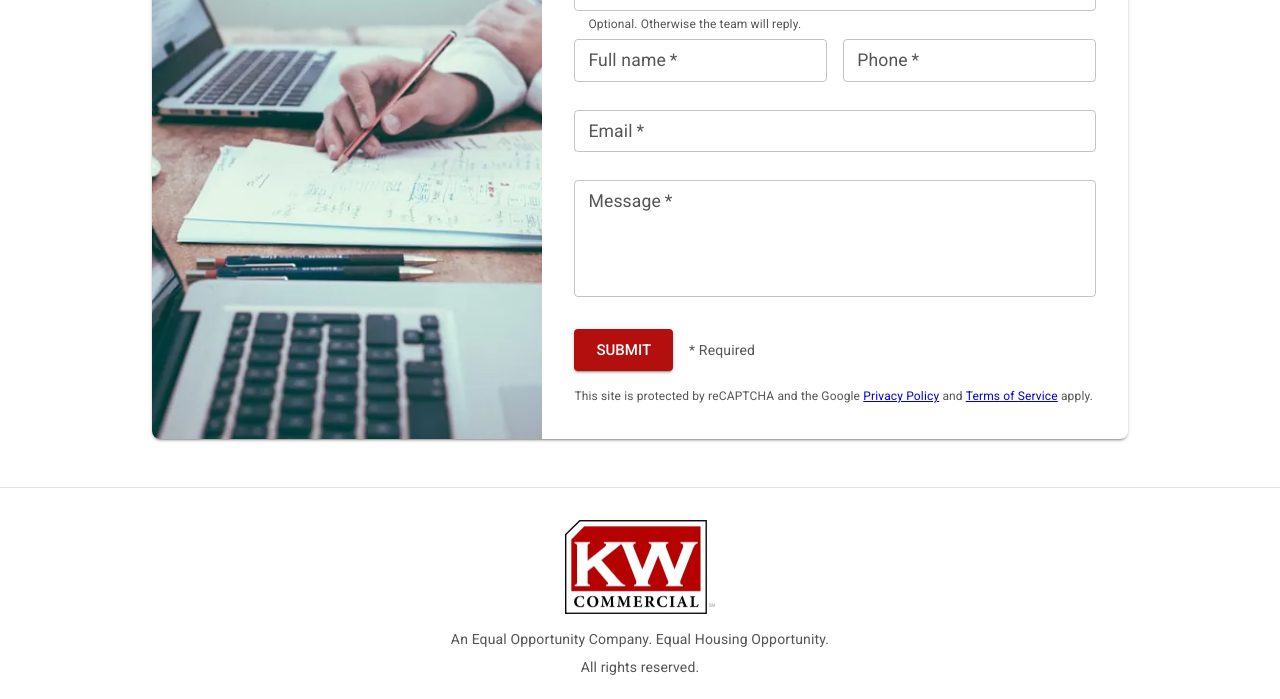
Test: contact form › blocks submit and shows errors when required fields are empty
The width and height of the screenshot is (1280, 699).
(page scrolled)
Click the button "Submit" at (624, 350), box [574,329,673,371]
(page scrolled)
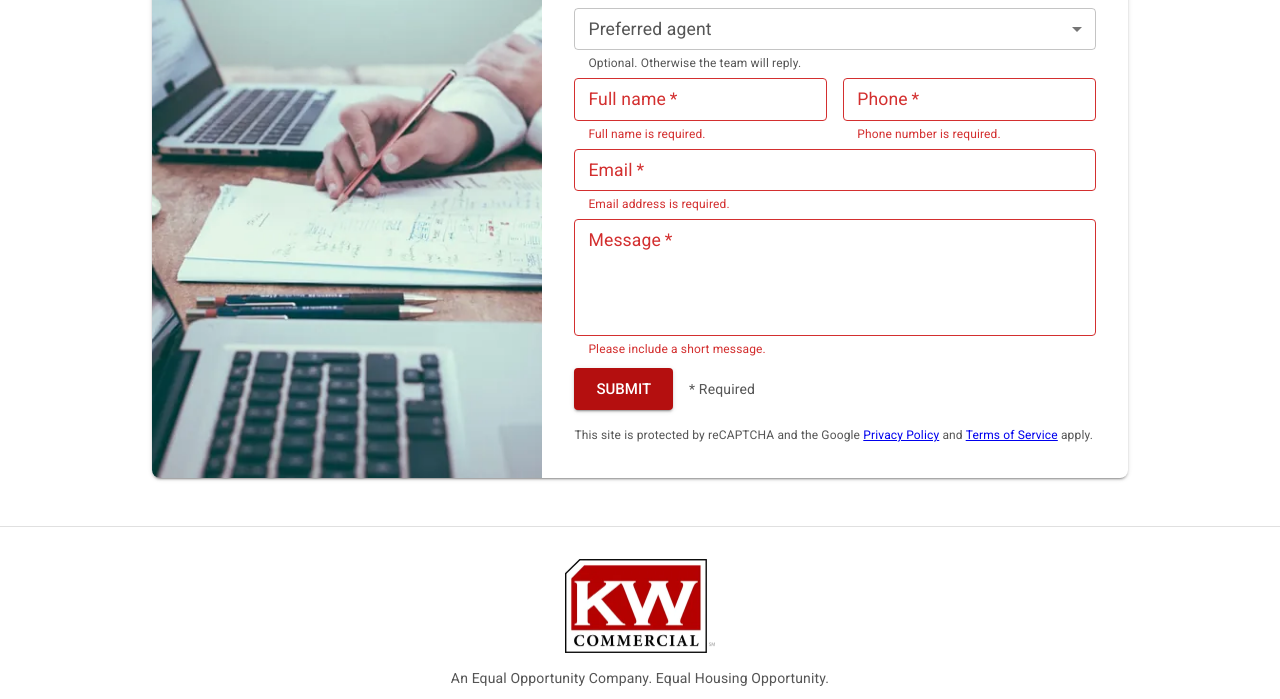
Expected: the text "Full name is required." is shown, [588,127,706,141]
Expected: the text "Please include a short message." is shown, [588,342,766,356]
